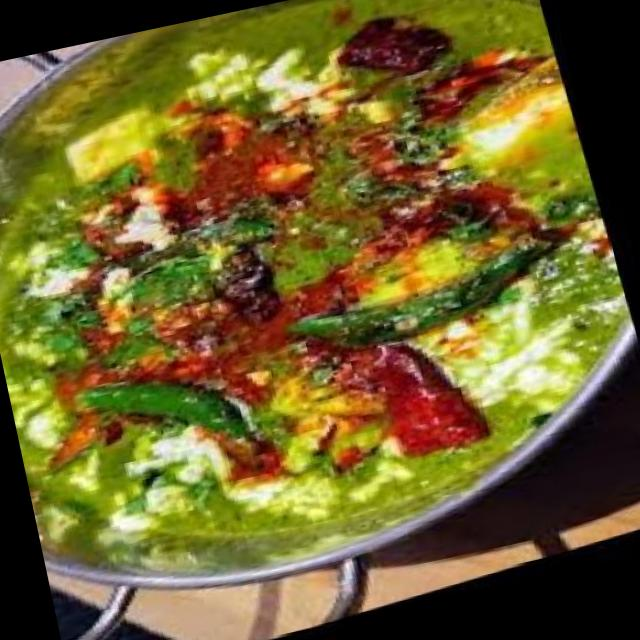palak_paneer: (0, 0, 640, 606)
